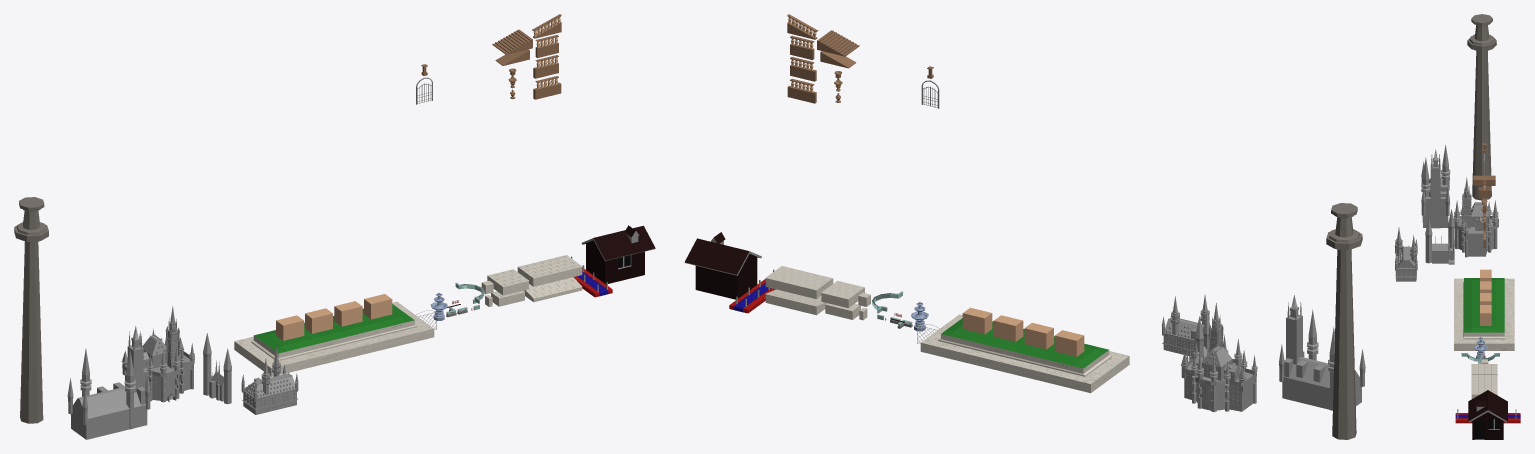
File: Fence-01.FBX
3 views of the same model, side by side, from view 1: azimuth 30°, elevation 25°; view 2: azimuth 150°, elevation 25°; view 3: azimuth 270°, elevation 25° (orthographic). The views are drawn at different scales.
Parts seen in each view (by area): view 1: Box002, Cylinder001, Box017, Box010, Line002, Object007, Box005, Object006, Object003, Object014; view 2: Box002, Cylinder001, Box017, Box005 (×2), Box010, Object007, Line002, Object006, Object003, Object010, Object014; view 3: Box002, Cylinder001 (×3), Box017, Box005 (×2), Line002, Object010, Object007, Object004 (×2), Box001, Box010, Object003, Cylinder023 (+7 smaller).
Part boxes in pixels (x1,y1,x2,y2): Box002: (234, 294, 434, 376); Cylinder001: (14, 197, 48, 423); Box017: (581, 225, 655, 284); Box010: (71, 386, 147, 439); Line002: (241, 346, 298, 414); Object007: (517, 255, 582, 286); Box005: (125, 354, 191, 402); Object006: (524, 277, 582, 302); Object003: (487, 269, 528, 295); Object014: (492, 29, 532, 54); Box002: (920, 307, 1129, 393); Cylinder001: (1326, 203, 1362, 439); Box017: (684, 232, 761, 299); Box005 (×2): (729, 269, 1253, 411); Box010: (1282, 357, 1361, 409); Object007: (765, 266, 833, 298); Line002: (1162, 294, 1221, 356); Object006: (765, 289, 826, 315); Object003: (821, 280, 864, 308); Object010: (1286, 314, 1302, 364); Object014: (817, 30, 859, 56); Box002: (1454, 269, 1514, 350); Cylinder001 (×3): (1425, 14, 1496, 358); Box017: (1468, 390, 1507, 439); Box005 (×2): (1454, 219, 1520, 423); Line002: (1394, 227, 1417, 281); Object010: (1430, 164, 1440, 228); Object007: (1471, 375, 1497, 398); Object004 (×2): (1461, 202, 1500, 361); Box001: (1432, 243, 1448, 263); Box010: (1423, 178, 1448, 227); Object003: (1471, 364, 1497, 374); Cylinder023: (1441, 145, 1450, 191).
Size of the model in its own units: 15055 by 6487 by 3168.
